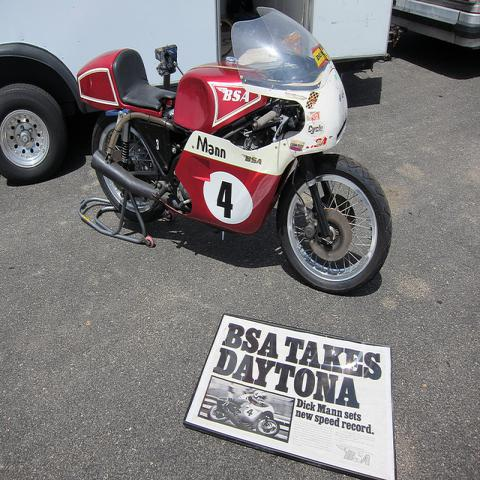car: (394, 1, 479, 50)
motorcycle: (76, 6, 394, 294)
truck: (0, 0, 394, 183)
